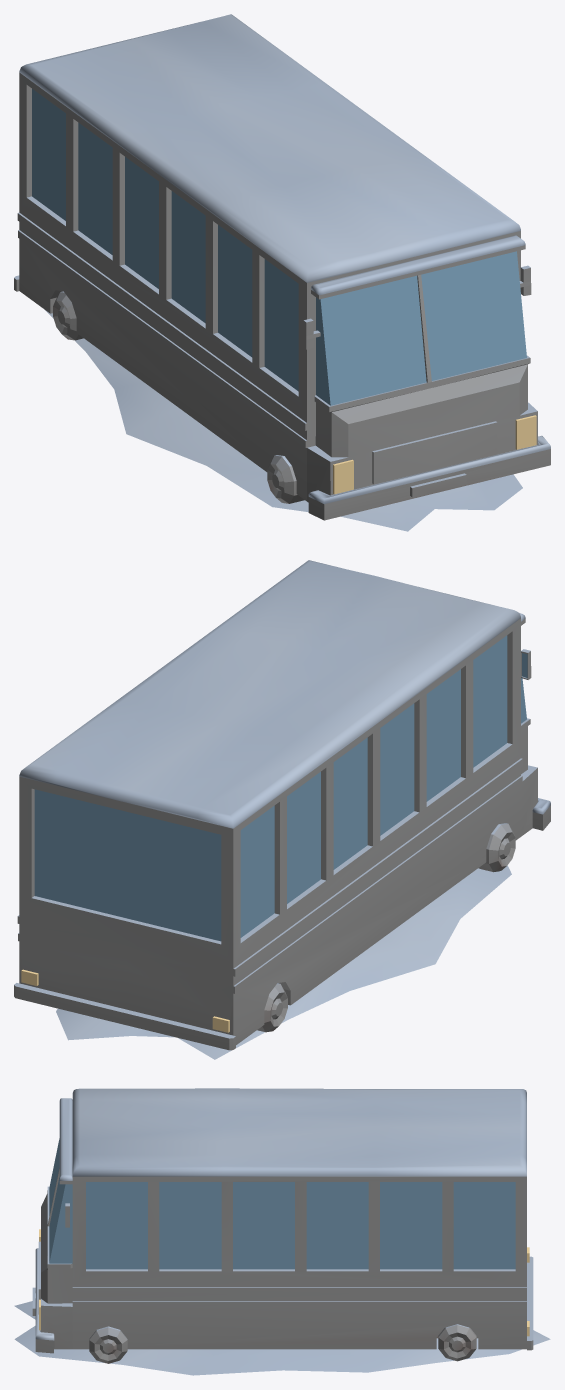
The model's file is q_bus.glb.
3 views of the same model, one above another, from view 1: azimuth 30°, elevation 25°; view 2: azimuth 150°, elevation 25°; view 3: azimuth 270°, elevation 25° (orthographic). The views are drawn at different scales.
Visible parts, largest first — view 1: Body; view 2: Body; view 3: Body.
Part boxes in pixels (left/top/right/bottom): Body: left=14, top=14, right=550, bottom=531; Body: left=14, top=560, right=550, bottom=1059; Body: left=14, top=1088, right=550, bottom=1375.
Bounding box in the file's own units: 5.05 × 4.1 × 10.18.
